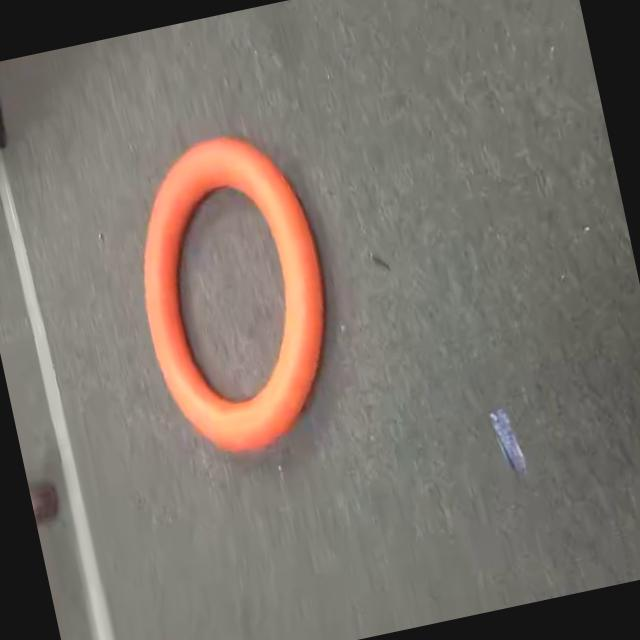note: (108, 115, 370, 475)
